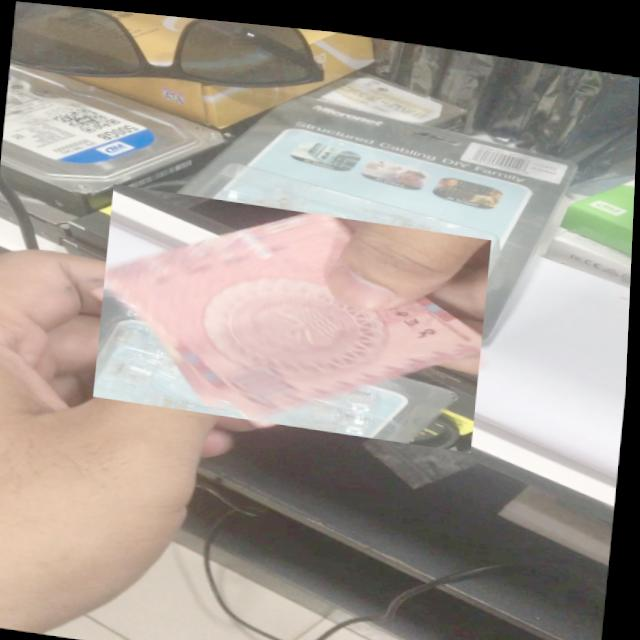Taka: (96, 181, 494, 443)
